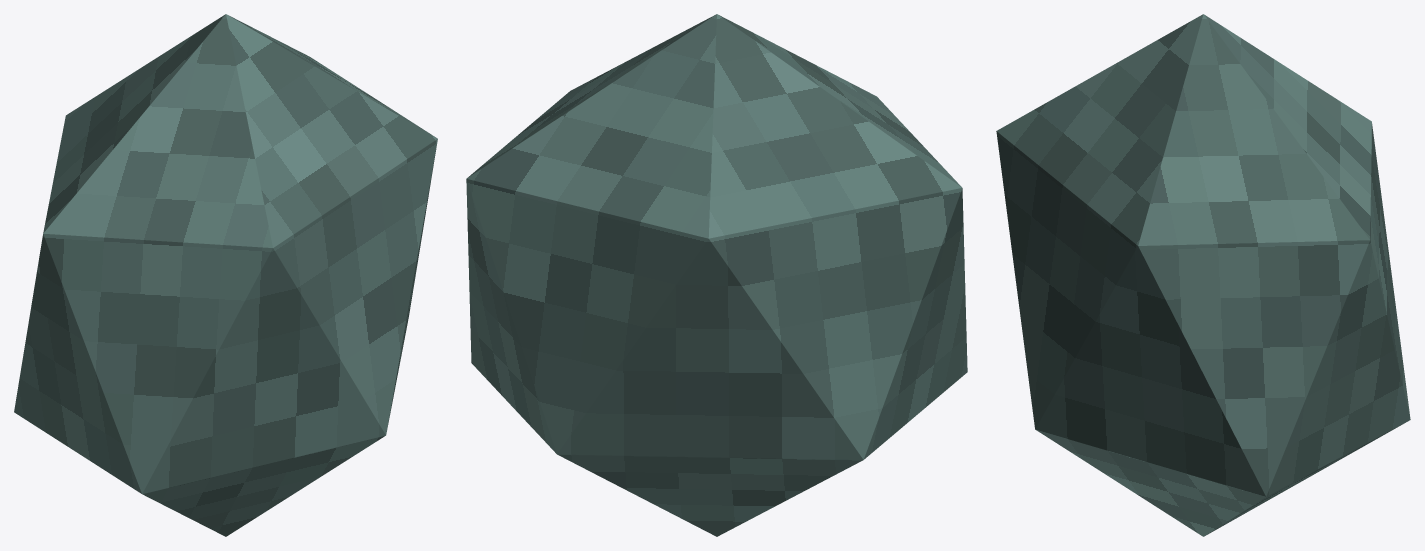
Rendered from rock_20.glb.
3 views of the same model, side by side, from view 1: azimuth 30°, elevation 25°; view 2: azimuth 150°, elevation 25°; view 3: azimuth 270°, elevation 25° (orthographic).
Parts seen in each view (by area): view 1: WeatheredStone; view 2: WeatheredStone; view 3: WeatheredStone.
Boxes of the visible parts, x1,y1,x2,y2 form: WeatheredStone: (14, 14, 437, 536); WeatheredStone: (466, 14, 967, 536); WeatheredStone: (996, 14, 1410, 536).
Size of the model in its own units: 1.94 by 2.27 by 1.63.
1 material, 1 textured.
